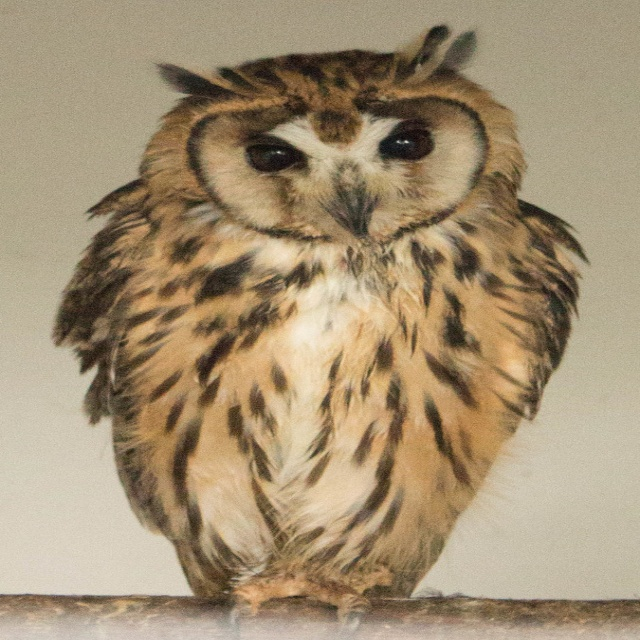Owl: (49, 27, 601, 640)
